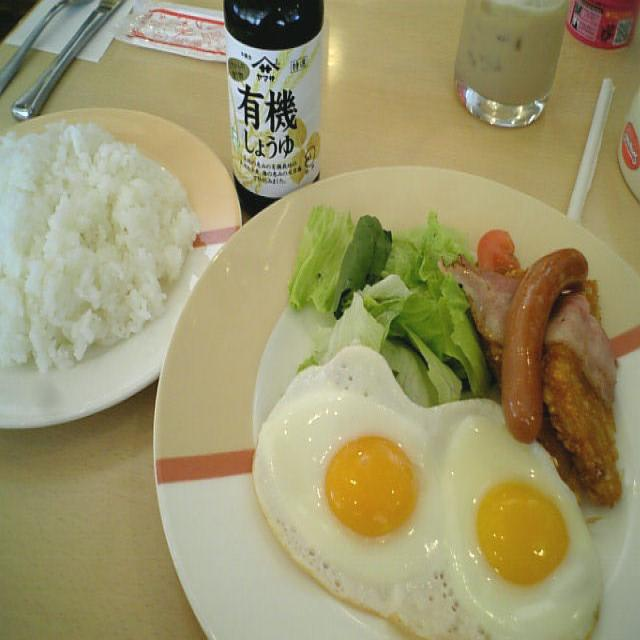米饭主食: (0, 128, 226, 363)
鸡蛋料理: (260, 346, 600, 640)
